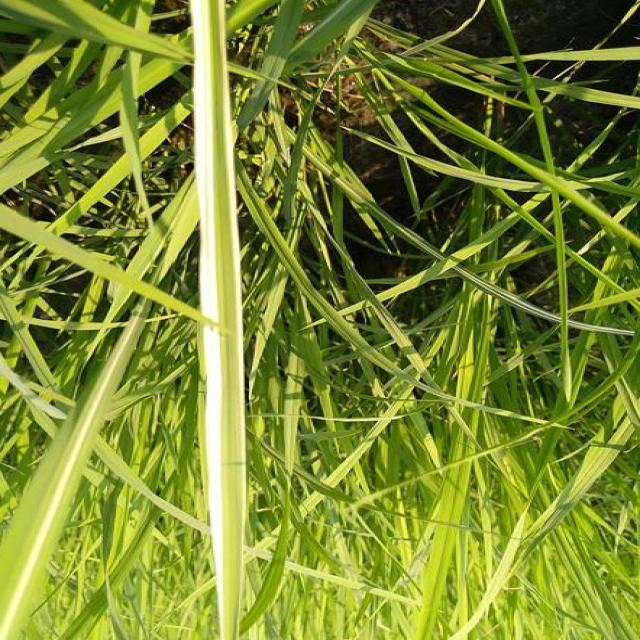Leaf Streak: (193, 0, 246, 640)
